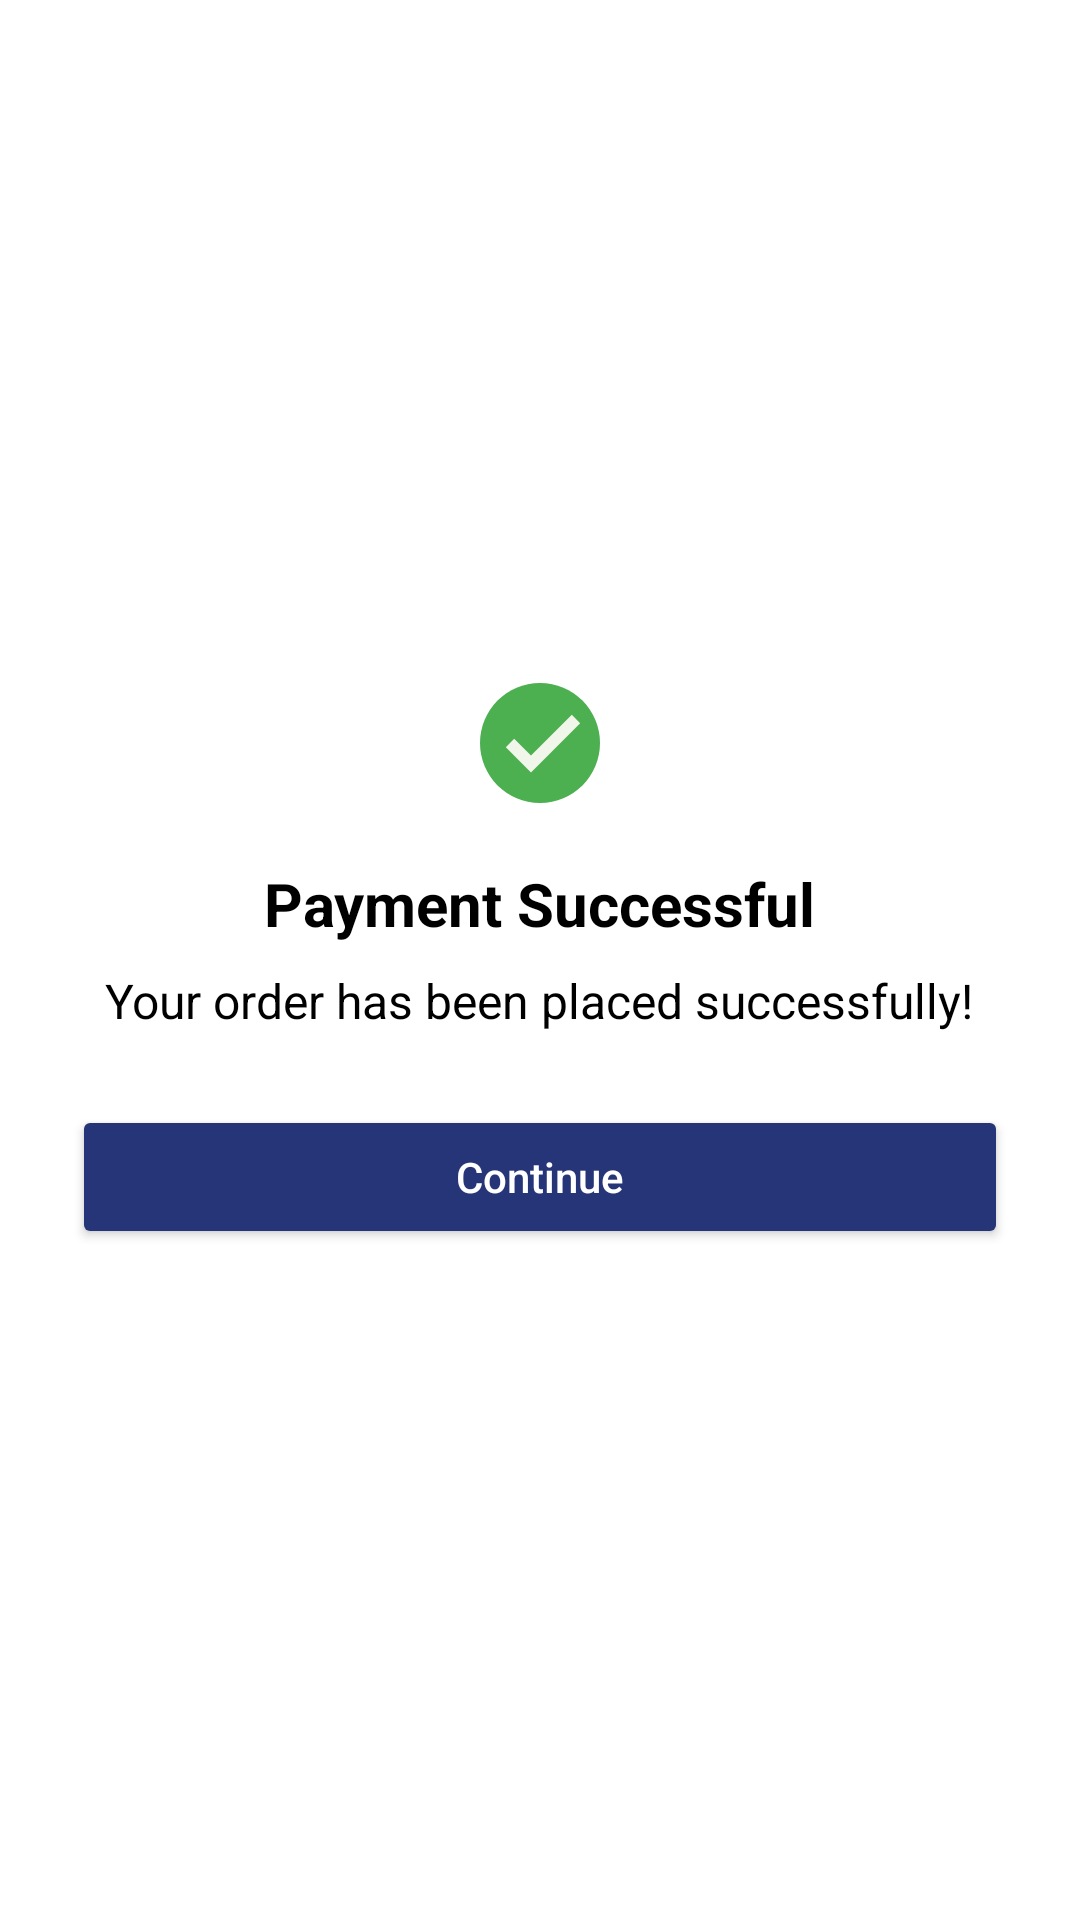

Icons on this 1080×1920 Android screen, each with its box as (x1, y1, x2, y2):
Success Icon: (480, 683, 600, 803)
